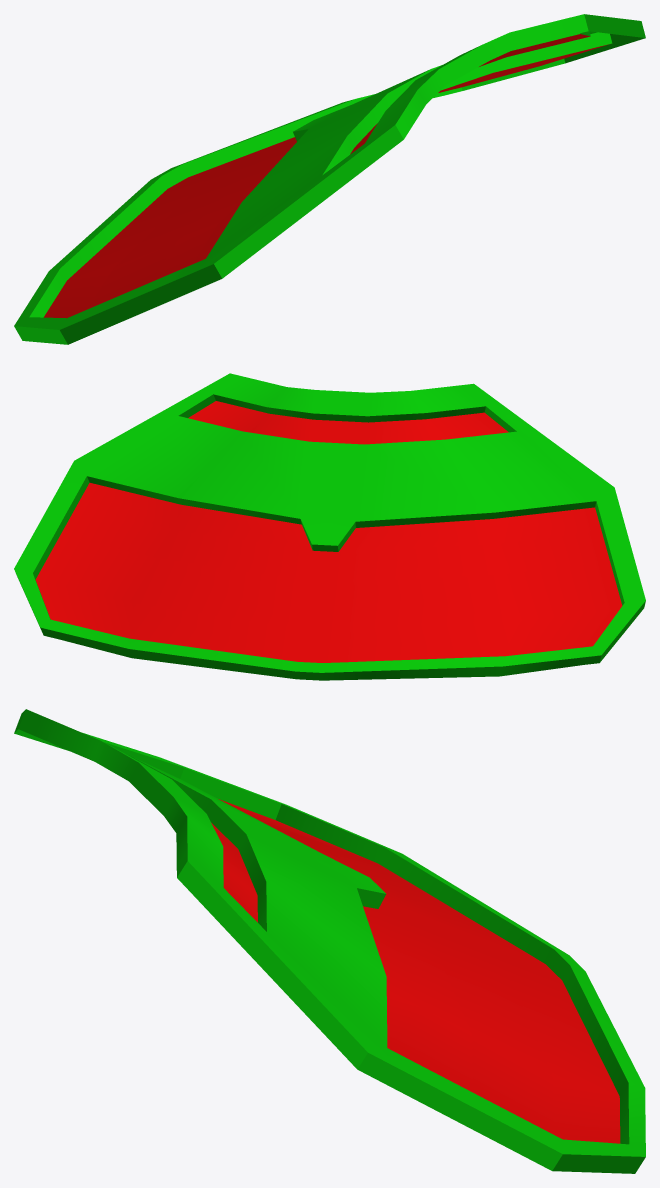
Rendered from Barrier_Outward.fbx.
3 views of the same model, one above another, from view 1: azimuth 30°, elevation 25°; view 2: azimuth 150°, elevation 25°; view 3: azimuth 270°, elevation 25° (orthographic). The views are drawn at different scales.
Visible parts, largest first — view 1: pCube12; view 2: pCube12; view 3: pCube12.
Boxes of the visible parts, left/top/right/bottom form: pCube12: left=14, top=14, right=645, bottom=344; pCube12: left=14, top=373, right=645, bottom=680; pCube12: left=14, top=709, right=645, bottom=1173.
Size of the model in its own units: 1490 by 483 by 1001.
